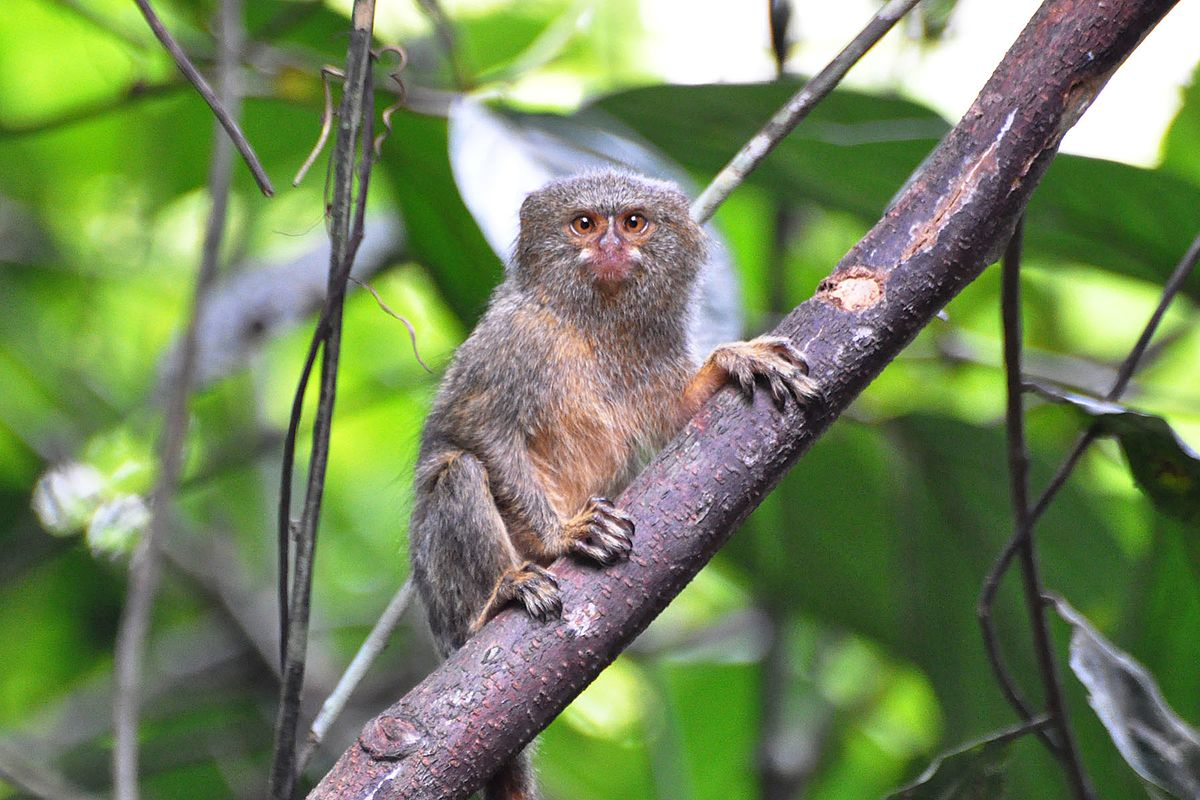PygmyMarmoset: (383, 174, 760, 590)
